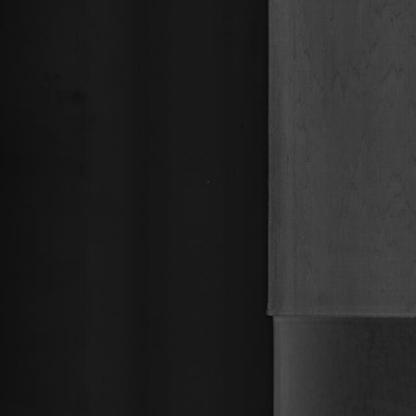welding_line: (260, 302, 416, 332)
